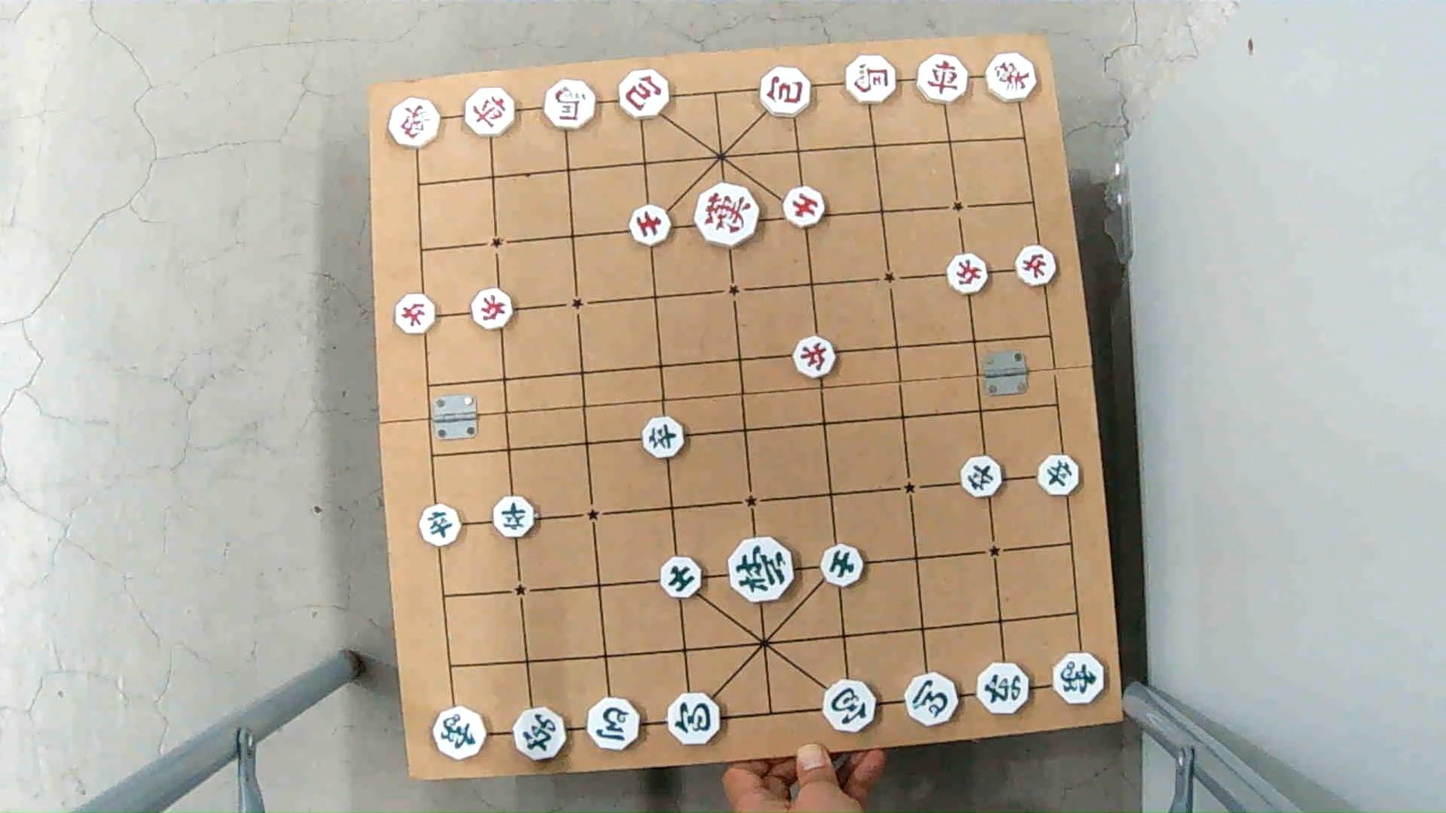cha_green: (974, 665, 1030, 713), (511, 713, 569, 759)
cha_red: (914, 55, 972, 101), (464, 91, 520, 137)
jol_green: (489, 502, 539, 539), (637, 420, 685, 458), (962, 458, 1007, 498), (417, 507, 465, 544), (1034, 458, 1082, 495)
jol_red: (792, 337, 840, 376), (945, 257, 994, 294), (393, 296, 440, 333), (1014, 248, 1061, 285), (470, 293, 518, 328)
ma_green: (903, 673, 961, 722), (586, 702, 643, 750)
ma_red: (538, 83, 595, 129), (845, 56, 901, 99)
po_green: (667, 695, 723, 744), (820, 684, 877, 732)
po_red: (615, 73, 676, 119), (757, 70, 813, 117)
sa_green: (819, 544, 867, 586), (656, 558, 706, 595)
sa_red: (625, 206, 674, 245), (781, 186, 828, 224)
sang_green: (1048, 653, 1108, 702), (431, 709, 487, 757)
sang_red: (981, 54, 1041, 99), (386, 100, 444, 143)
wang_green: (727, 542, 796, 600)
wang_red: (692, 187, 759, 242)
